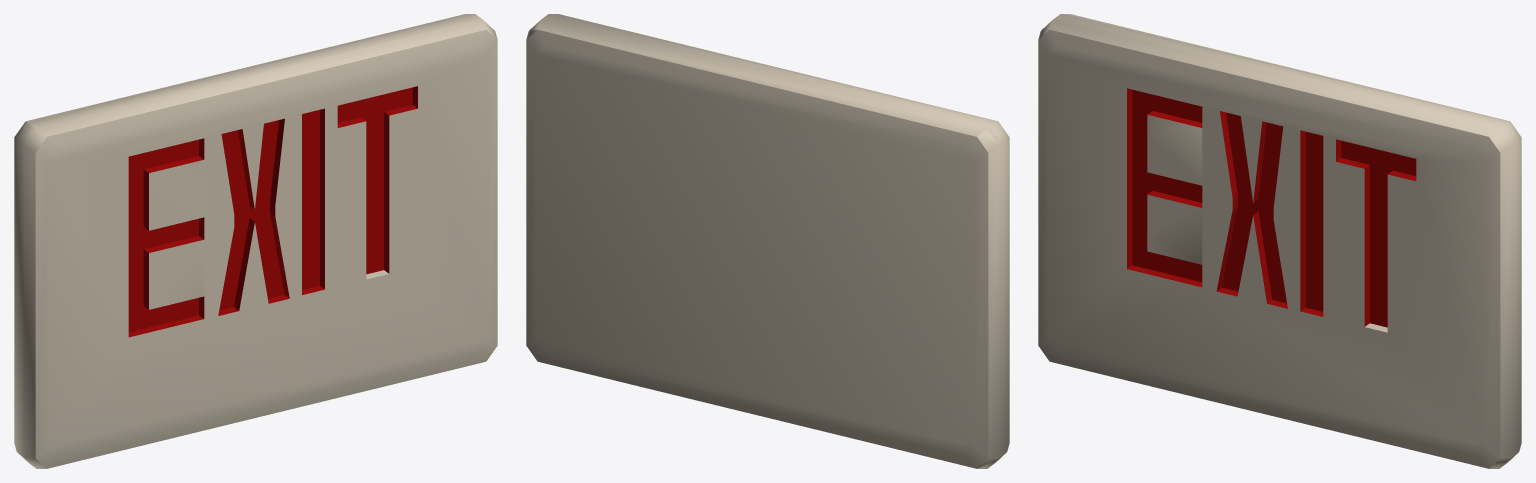
Rendered from ExitSign.FBX.
3 views of the same model, side by side, from view 1: azimuth 30°, elevation 25°; view 2: azimuth 150°, elevation 25°; view 3: azimuth 330°, elevation 25° (orthographic).
Visible parts, largest first — view 1: Sign; view 2: Sign; view 3: Sign.
Part boxes in pixels (left/top/right/bottom): Sign: left=14, top=14, right=497, bottom=468; Sign: left=526, top=14, right=1009, bottom=468; Sign: left=1038, top=14, right=1521, bottom=468.
Bounding box in the file's own units: 115 × 79.24 × 10.86.
